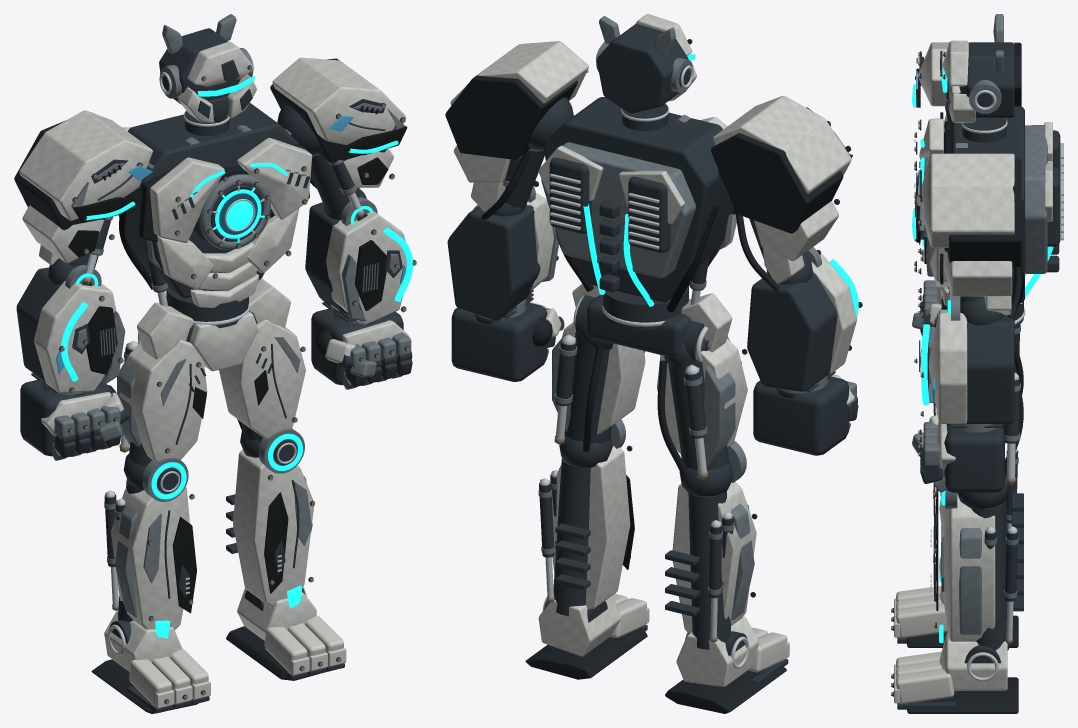
File: mech.glb
3 renders of one model, left to right at view 1: azimuth 30°, elevation 25°; view 2: azimuth 150°, elevation 25°; view 3: azimuth 270°, elevation 25°, orthographic. The views are drawn at different scales.
Parts seen in each view (by area): view 1: Torso_assembly | Titanium ceramic armor, shoulder-left | Titanium ceramic armor, shoulder-right | Titanium ceramic armor, Torso_assembly | Graphite mechanical frame, Long angular shin shield.001, Broad sculpted thigh armor, Broad sculpted thigh armor.001, shoulder-right | Graphite mechanical frame, Long angular shin shield, Armored_foot | Titanium ceramic armor, Armored_foot001 | Titanium ceramic armor, shoulder-left | Graphite mechanical frame (+34 smaller); view 2: Torso_assembly | Graphite mechanical frame, shoulder-left | Titanium ceramic armor, shoulder-right | Graphite mechanical frame, shoulder-left | Graphite mechanical frame, shoulder-left | Black joint seals, knee-left | Graphite mechanical frame, shoulder-right | Titanium ceramic armor, shoulder-right | Black joint seals, knee-right | Graphite mechanical frame, Torso_assembly | Armor edge titanium, Helmet | Graphite mechanical frame, Power_fist | Graphite mechanical frame (+24 smaller); view 3: shoulder-right | Titanium ceramic armor, shoulder-right | Graphite mechanical frame, Armored_foot001 | Titanium ceramic armor, knee-right | Graphite mechanical frame, Long angular shin shield.001, Power_fist001 | Graphite mechanical frame, Torso_assembly | Graphite mechanical frame, Helmet | Graphite mechanical frame, Torso_assembly | Armor edge titanium, shoulder-right | Black joint seals, knee-right | Armor edge titanium, Armored_foot | Titanium ceramic armor (+21 smaller).
Boxes of the visible parts, bbox=[...] form: Torso_assembly | Titanium ceramic armor: bbox=[122, 127, 312, 371]; shoulder-left | Titanium ceramic armor: bbox=[19, 110, 152, 392]; shoulder-right | Titanium ceramic armor: bbox=[272, 57, 406, 324]; Torso_assembly | Graphite mechanical frame: bbox=[118, 103, 309, 342]; Long angular shin shield.001: bbox=[233, 449, 314, 606]; Broad sculpted thigh armor: bbox=[119, 340, 207, 461]; Broad sculpted thigh armor.001: bbox=[219, 319, 305, 438]; shoulder-right | Graphite mechanical frame: bbox=[277, 99, 416, 322]; Long angular shin shield: bbox=[111, 487, 189, 629]; Armored_foot | Titanium ceramic armor: bbox=[104, 610, 210, 708]; Armored_foot001 | Titanium ceramic armor: bbox=[237, 588, 346, 675]; shoulder-left | Graphite mechanical frame: bbox=[16, 159, 143, 393]; Torso_assembly | Graphite mechanical frame: bbox=[543, 97, 733, 361]; shoulder-left | Titanium ceramic armor: bbox=[713, 96, 857, 373]; shoulder-right | Graphite mechanical frame: bbox=[447, 97, 573, 320]; shoulder-left | Graphite mechanical frame: bbox=[718, 107, 862, 391]; shoulder-left | Black joint seals: bbox=[710, 133, 843, 397]; knee-left | Graphite mechanical frame: bbox=[665, 460, 757, 656]; shoulder-right | Titanium ceramic armor: bbox=[450, 41, 588, 290]; shoulder-right | Black joint seals: bbox=[445, 75, 577, 323]; knee-right | Graphite mechanical frame: bbox=[539, 433, 632, 622]; Torso_assembly | Armor edge titanium: bbox=[541, 114, 732, 289]; Helmet | Graphite mechanical frame: bbox=[597, 24, 692, 131]; Power_fist | Graphite mechanical frame: bbox=[753, 376, 858, 455]; shoulder-right | Titanium ceramic armor: bbox=[917, 153, 1014, 423]; shoulder-right | Graphite mechanical frame: bbox=[915, 169, 1014, 427]; Armored_foot001 | Titanium ceramic armor: bbox=[894, 632, 1007, 703]; knee-right | Graphite mechanical frame: bbox=[933, 473, 1023, 663]; Long angular shin shield.001: bbox=[939, 494, 995, 641]; Power_fist001 | Graphite mechanical frame: bbox=[920, 424, 1004, 492]; Torso_assembly | Graphite mechanical frame: bbox=[915, 106, 1060, 327]; Helmet | Graphite mechanical frame: bbox=[940, 42, 1014, 142]; Torso_assembly | Armor edge titanium: bbox=[914, 122, 1047, 273]; shoulder-right | Black joint seals: bbox=[946, 159, 1021, 428]; knee-right | Armor edge titanium: bbox=[940, 489, 1018, 634]; Armored_foot | Titanium ceramic armor: bbox=[894, 586, 947, 638].
Bounding box in the file's own units: 1.57 × 2.64 × 0.6463.
10 materials, 3 textured.
